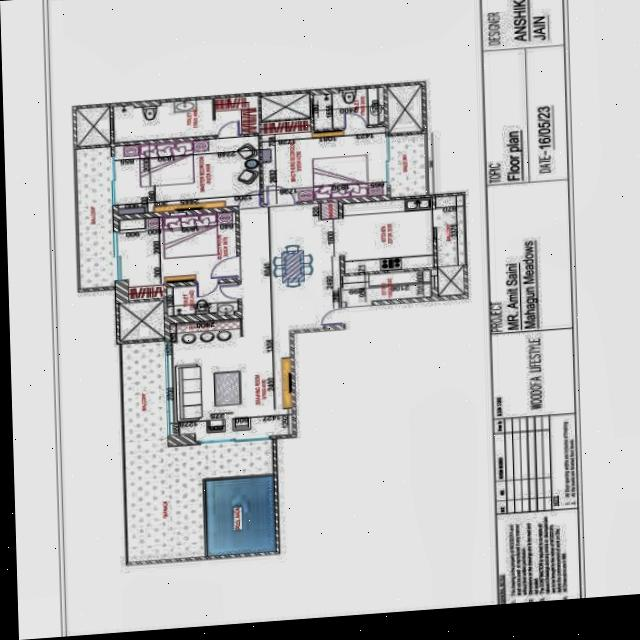room: (120, 339, 273, 561), (164, 319, 291, 441), (112, 136, 263, 213), (115, 209, 240, 299), (260, 116, 385, 204), (238, 219, 342, 296), (340, 200, 437, 272), (113, 94, 260, 141), (76, 145, 113, 287), (309, 85, 385, 128), (343, 269, 433, 301), (388, 134, 427, 196), (167, 281, 236, 314), (437, 194, 463, 265)
